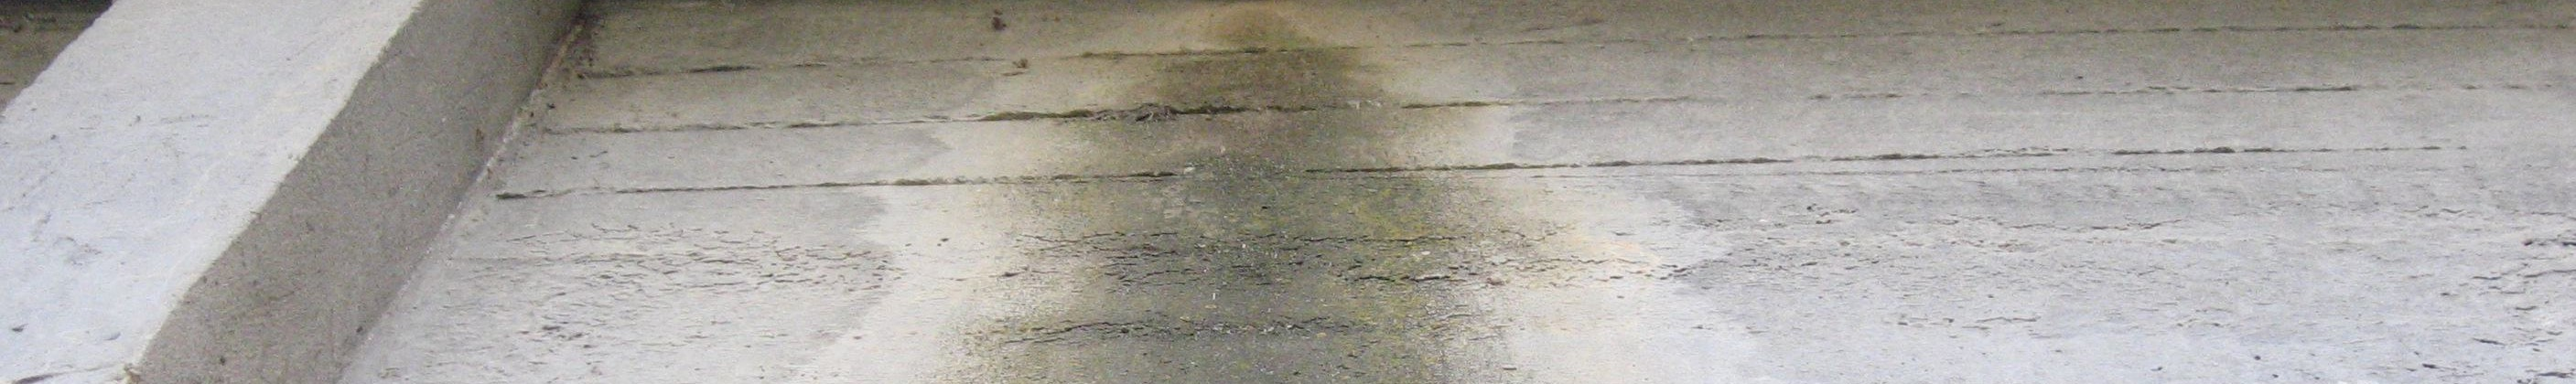Corrosion: (789, 2, 1769, 384)
